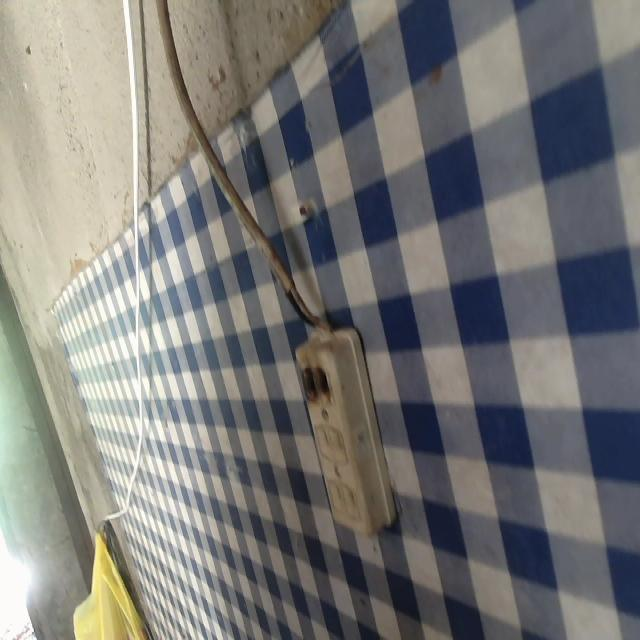-: (296, 358, 340, 411)
